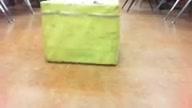cube: (39, 1, 121, 66)
